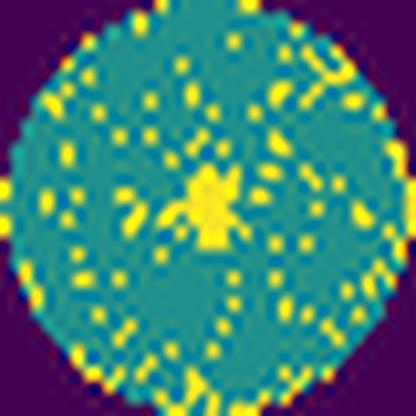Center: (155, 160, 253, 258)
